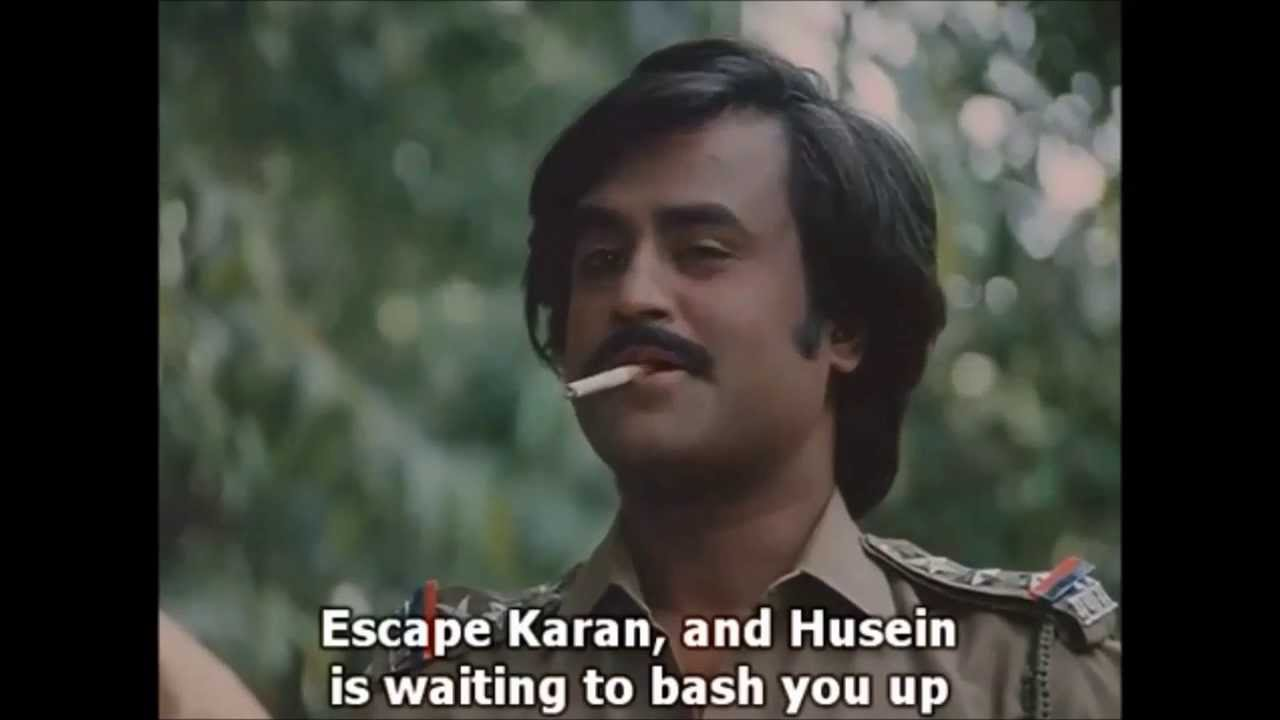cigarette: (560, 351, 668, 401)
